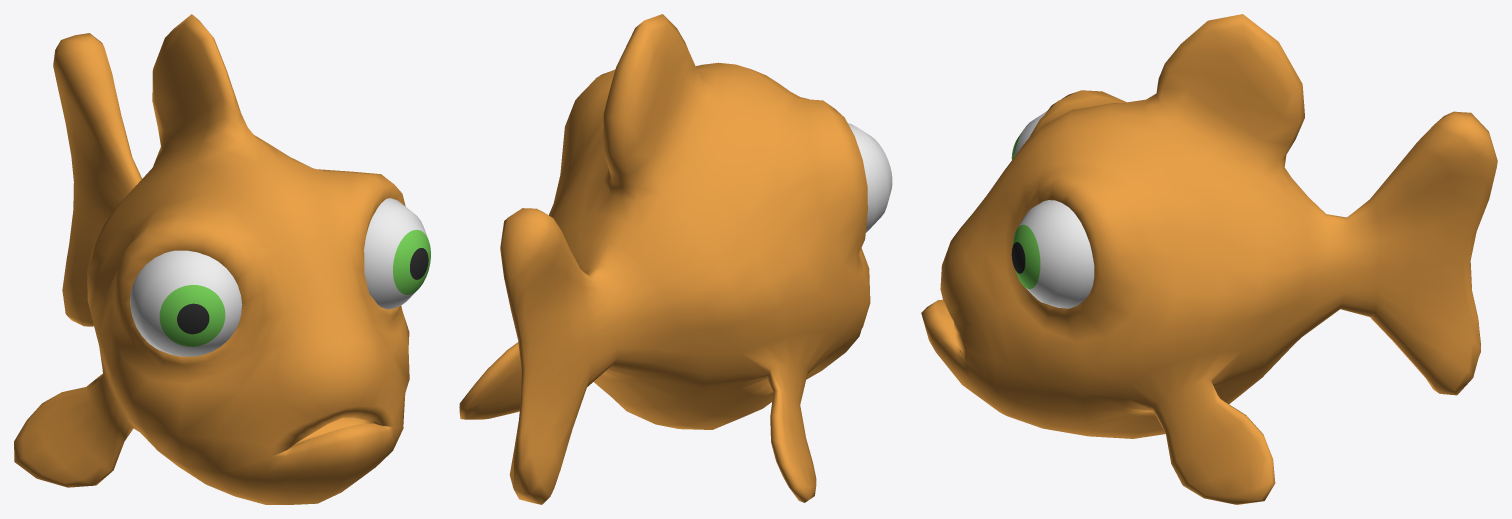
File: SM_Fish.fbx
3 views of the same model, side by side, from view 1: azimuth 30°, elevation 25°; view 2: azimuth 150°, elevation 25°; view 3: azimuth 270°, elevation 25° (orthographic). The views are drawn at different scales.
Parts seen in each view (by area): view 1: SM_FIsh_Body, SM_FIsh_Eyes; view 2: SM_FIsh_Body, SM_FIsh_Eyes; view 3: SM_FIsh_Body, SM_FIsh_Eyes.
Boxes of the visible parts, x1,y1,x2,y2 form: SM_FIsh_Body: (14,14,409,504); SM_FIsh_Eyes: (130,198,430,356); SM_FIsh_Body: (459,14,870,504); SM_FIsh_Eyes: (848,123,892,232); SM_FIsh_Body: (921,14,1497,504); SM_FIsh_Eyes: (1011,111,1094,308).
Bounding box in the file's own units: 1.86 × 2.24 × 2.81.
